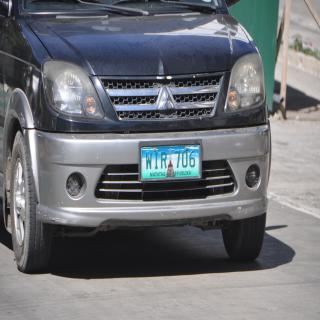license: (142, 146, 202, 182)
